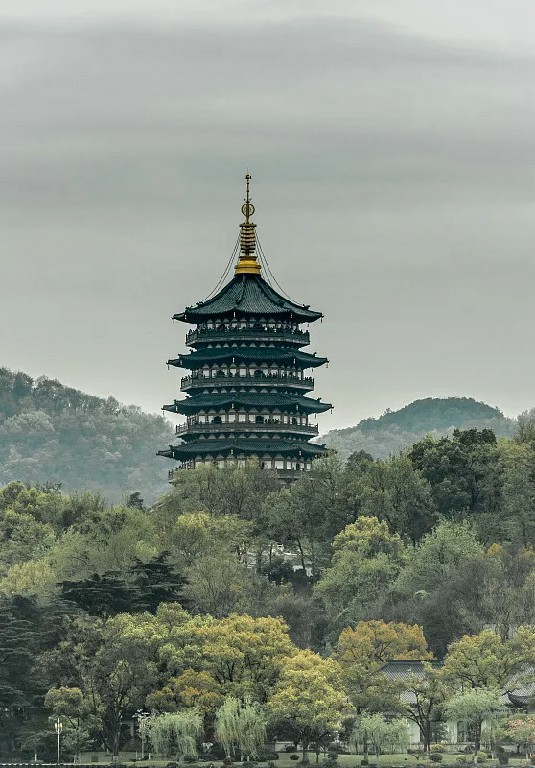Leifeng: (157, 165, 338, 485)
